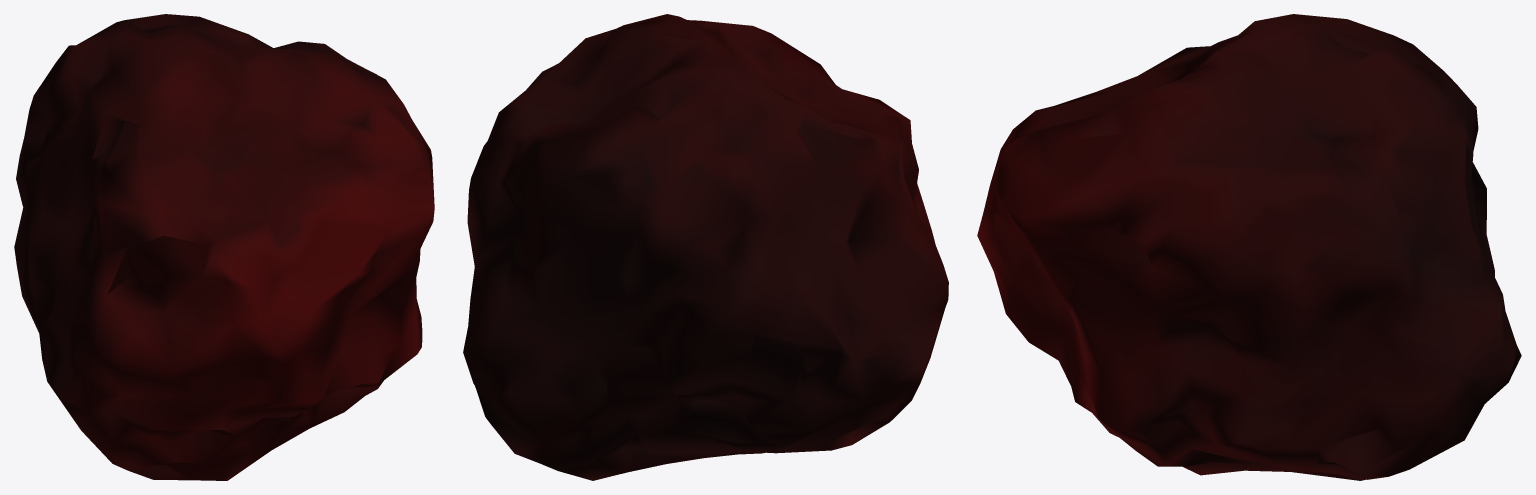
The model's file is geology-rocks-meteoritemedium_v5.fbx.
The picture shows the model from 3 angles, left to right: view 1: azimuth 30°, elevation 25°; view 2: azimuth 150°, elevation 25°; view 3: azimuth 270°, elevation 25°; orthographic projection. The views are drawn at different scales.
Visible parts, largest first — view 1: MeteoriteMedium_v5; view 2: MeteoriteMedium_v5; view 3: MeteoriteMedium_v5.
Boxes of the visible parts, left/top/right/bottom form: MeteoriteMedium_v5: left=14, top=14, right=434, bottom=480; MeteoriteMedium_v5: left=463, top=14, right=948, bottom=480; MeteoriteMedium_v5: left=977, top=14, right=1521, bottom=480.
Bounding box in the file's own units: 2.99 × 3.18 × 3.59.
